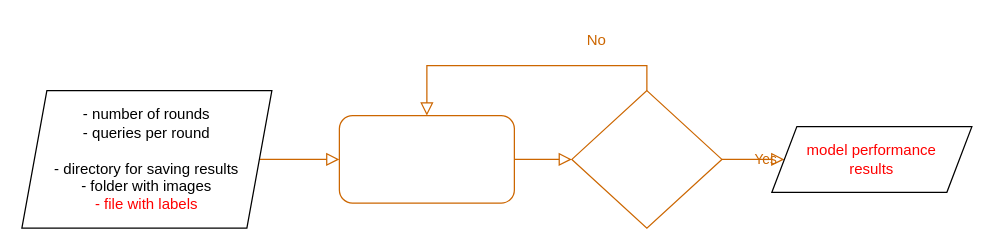
Some shapes in this 994 by 250 pixel diagram are drawn without their labels. Here are the shapes that lost their labels. From the top down, the box of each, then its label:
(338, 114, 514, 203): Label images queried in the current round
(571, 89, 722, 228): Is it the last round?
